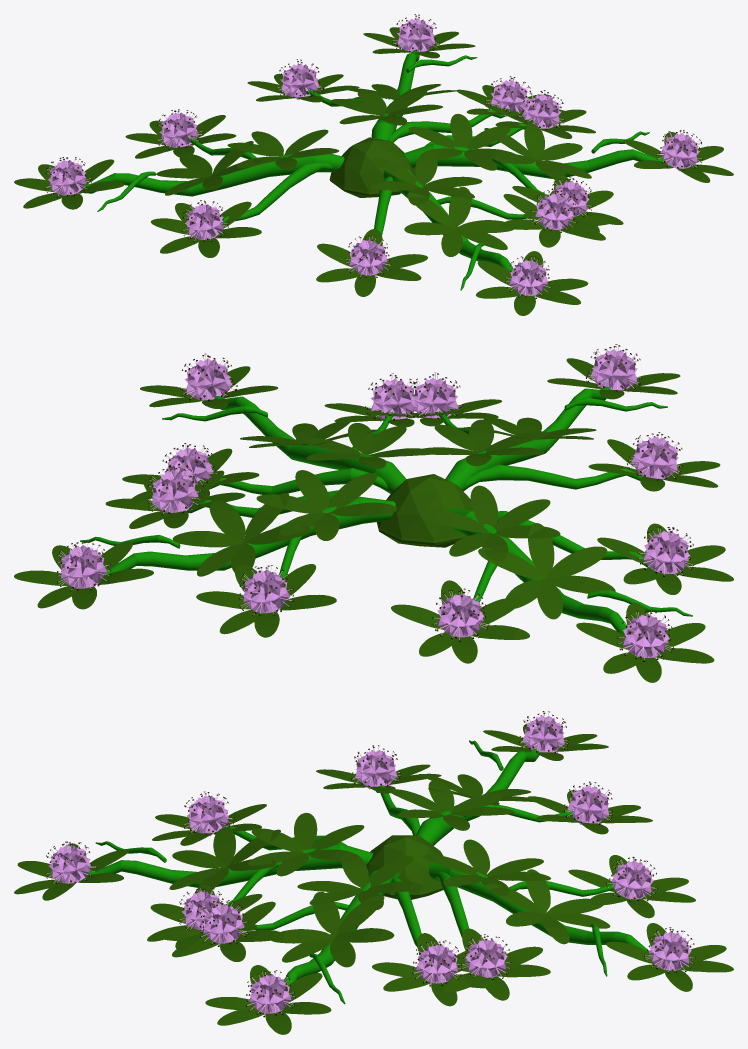
File: rhodedendron_FINALIHOPE.fbx
The picture shows the model from 3 angles, top to bottom: view 1: azimuth 30°, elevation 25°; view 2: azimuth 150°, elevation 25°; view 3: azimuth 270°, elevation 25°; orthographic projection. The views are drawn at different scales.
Parts seen in each view (by area): view 1: rhod.final.001, rhod.final, rhod.final.002; view 2: rhod.final.001, rhod.final, rhod.final.002; view 3: rhod.final.001, rhod.final, rhod.final.002.
Part boxes in pixels (<box>): rhod.final.001: <box>14,27,733,315</box>; rhod.final: <box>44,14,702,298</box>; rhod.final.002: <box>306,50,419,140</box>; rhod.final.001: <box>14,358,733,682</box>; rhod.final: <box>56,344,694,661</box>; rhod.final.002: <box>105,496,395,577</box>; rhod.final.001: <box>14,724,733,1034</box>; rhod.final: <box>45,711,695,1017</box>; rhod.final.002: <box>429,862,649,952</box>.
Bounding box in the file's own units: 436 × 34.57 × 426.
